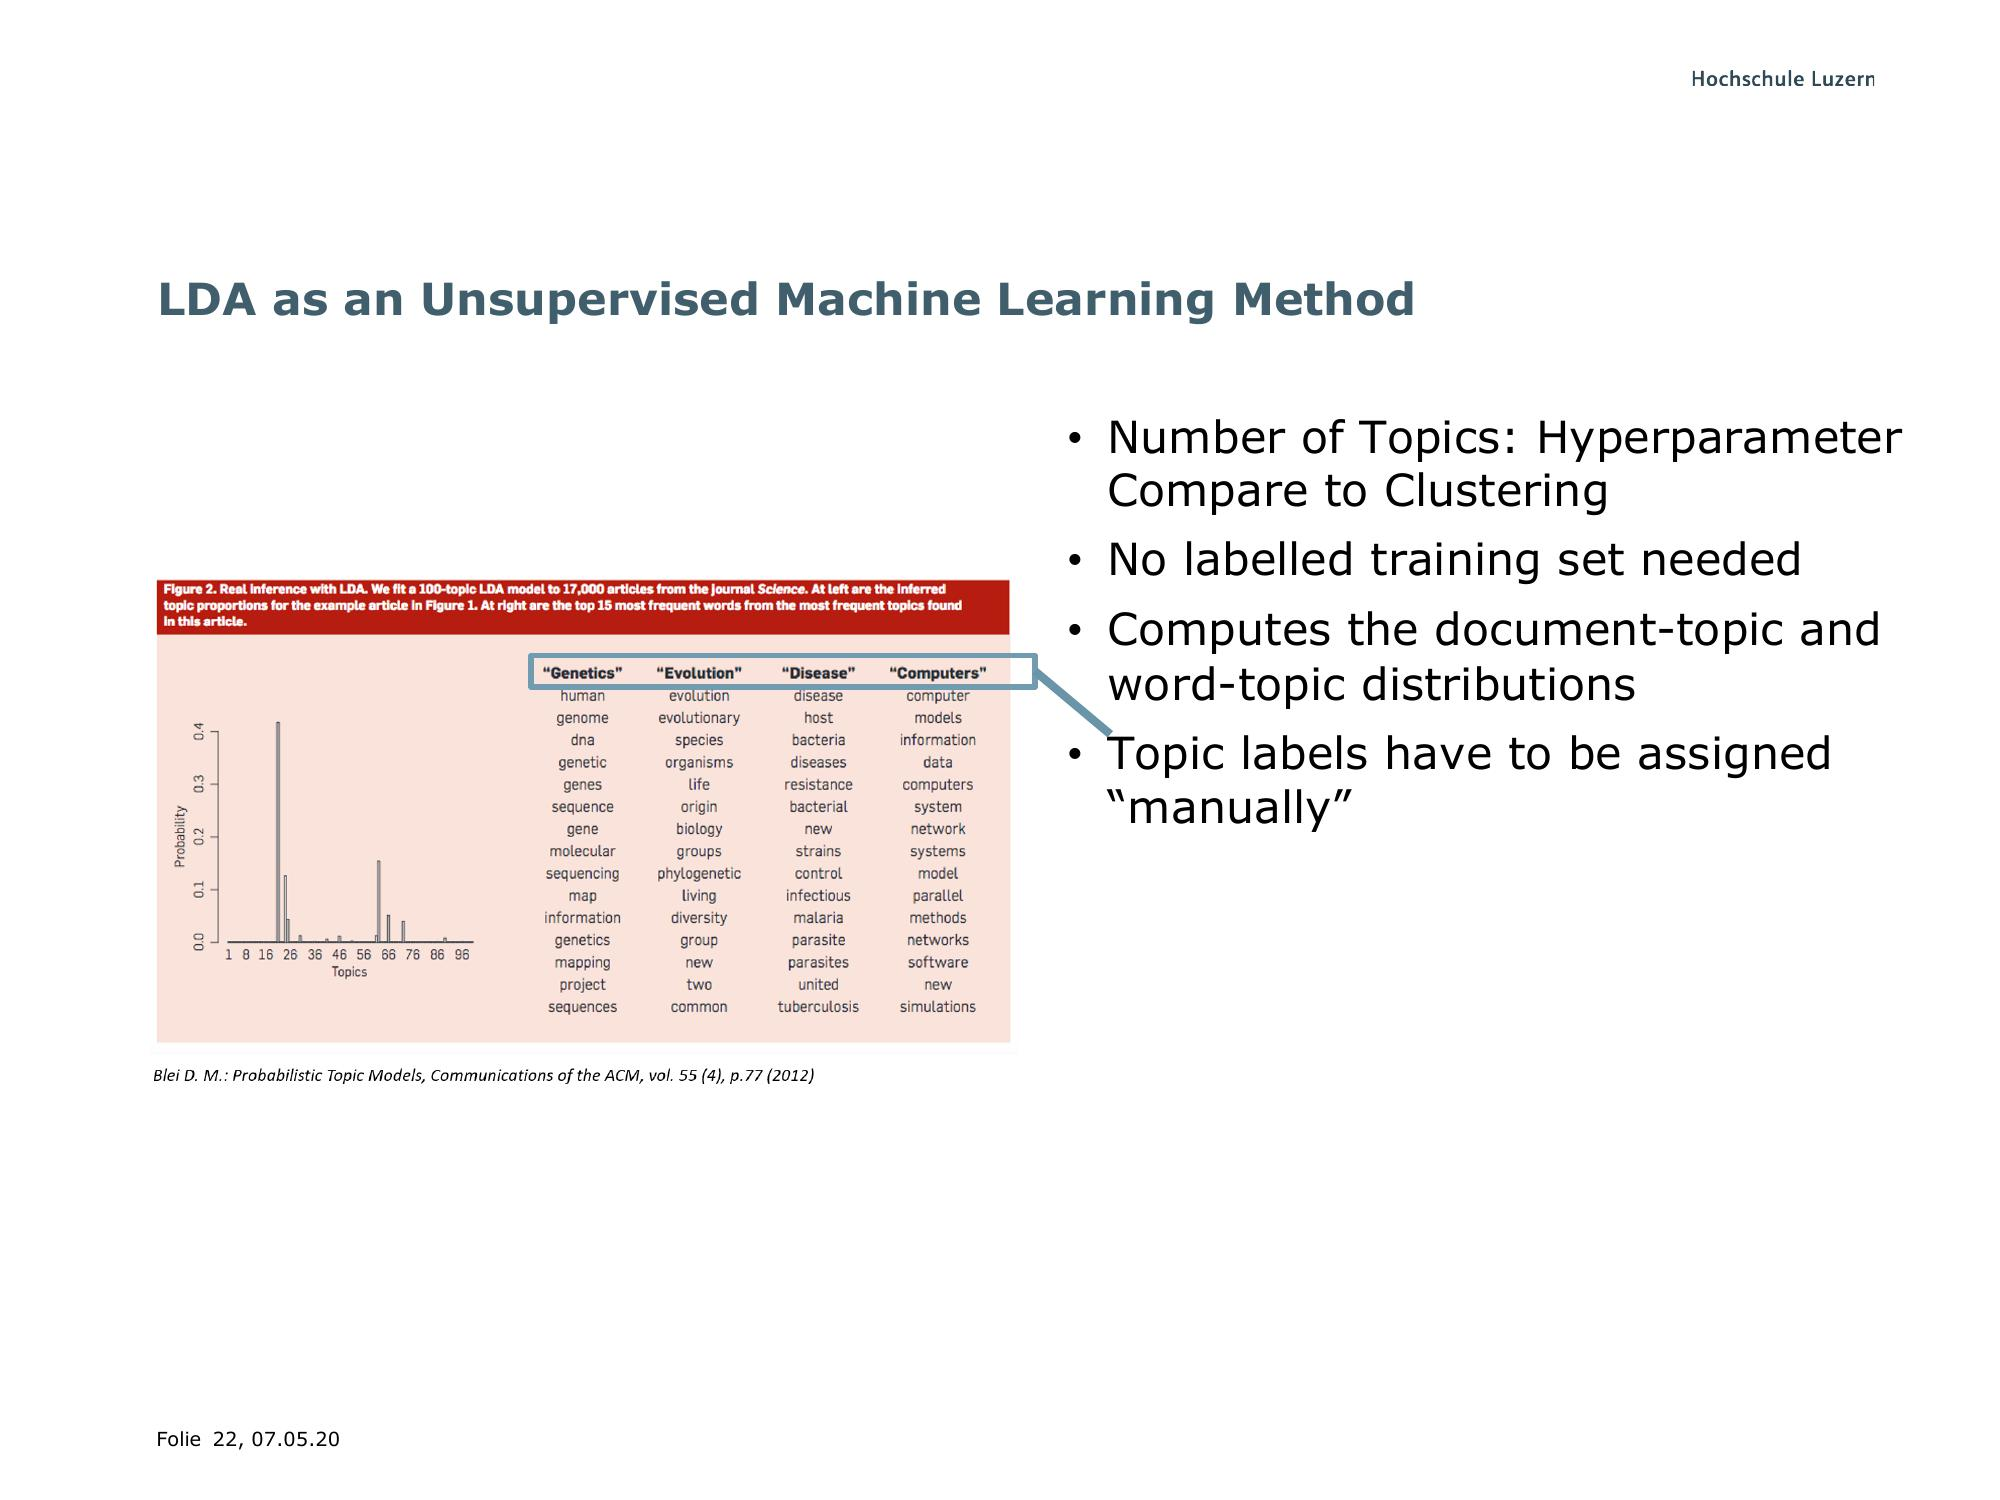Title: (146, 276, 1428, 326)
